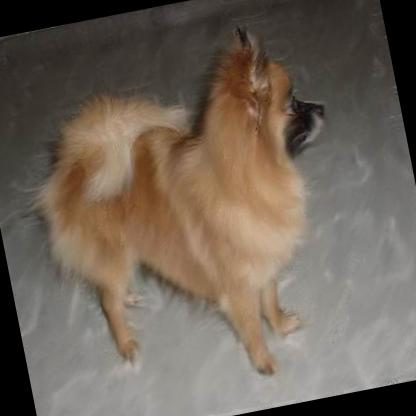Pomeranian: (3, 10, 372, 412)
